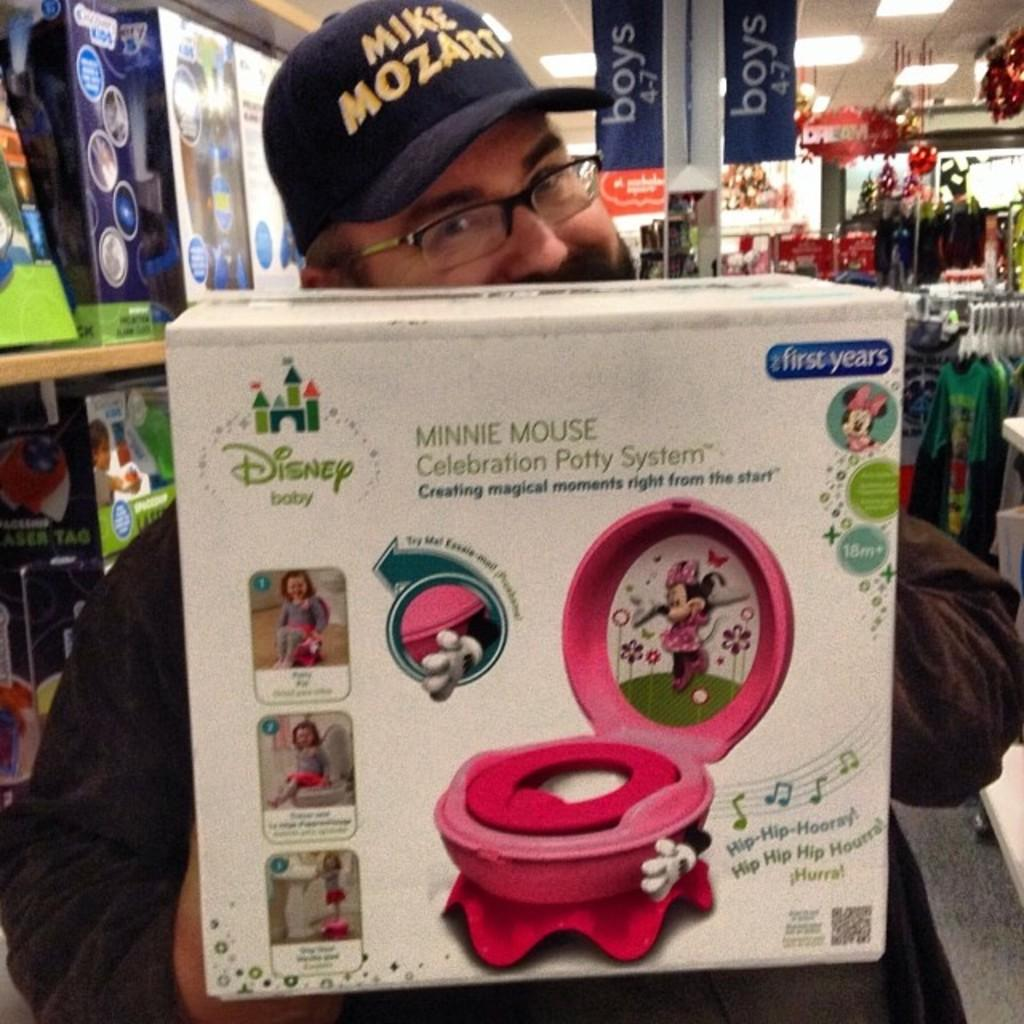Hat: (260, 0, 598, 256)
